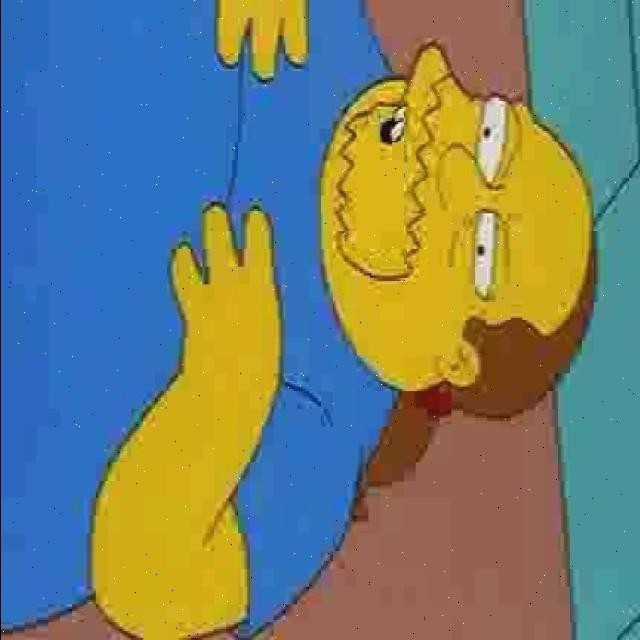Comic Book Guy: (316, 43, 600, 441)
